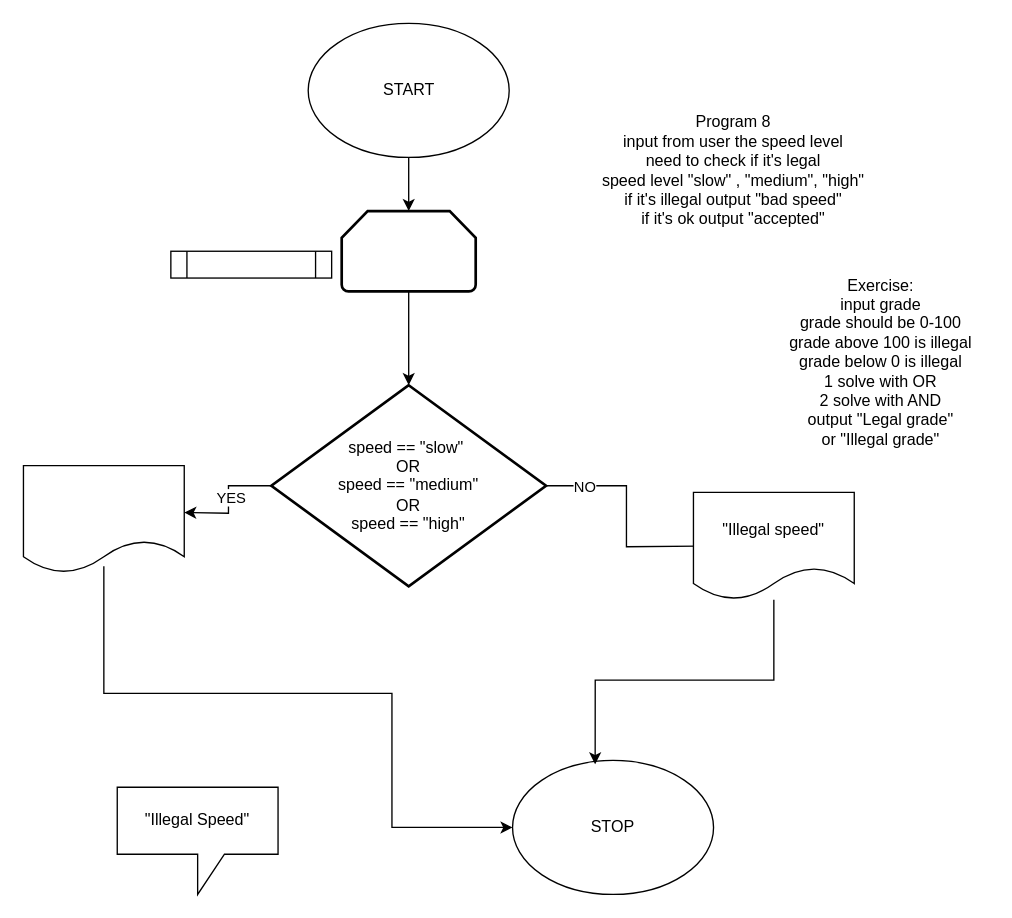
This 1012x918 diagram has some shape labels left out. Each missing label, with the centre of its shape:
"Accepted": point (103, 518)
"very high": point (251, 264)
speed: point (408, 250)
